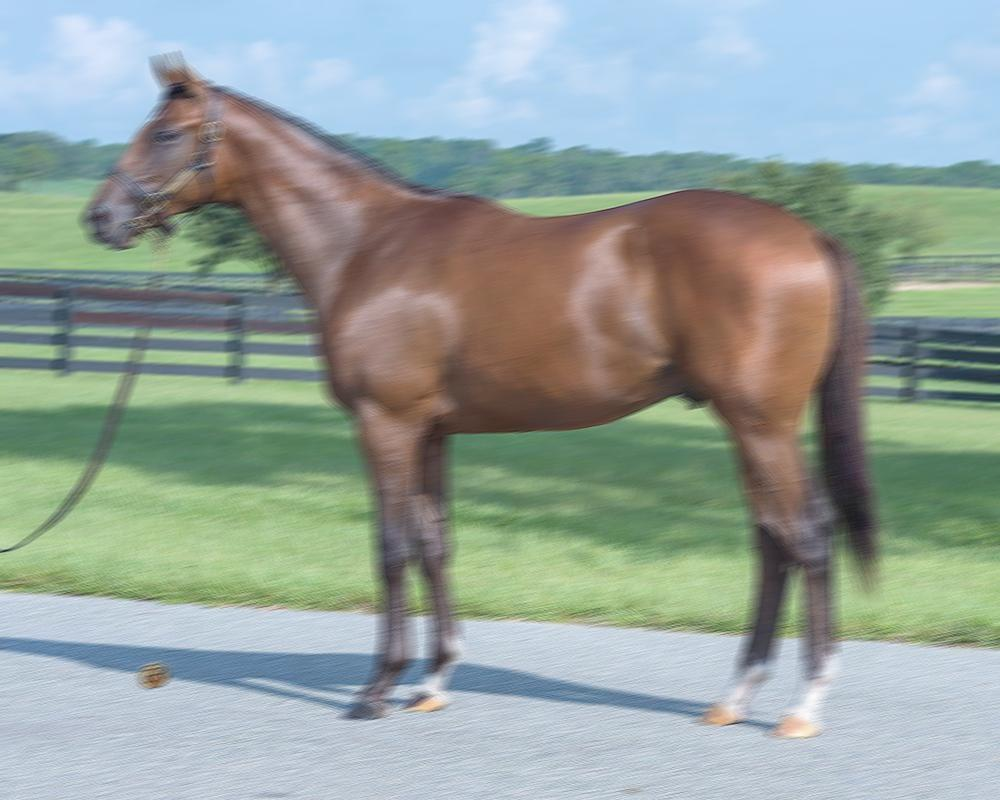horse: (74, 43, 898, 745)
